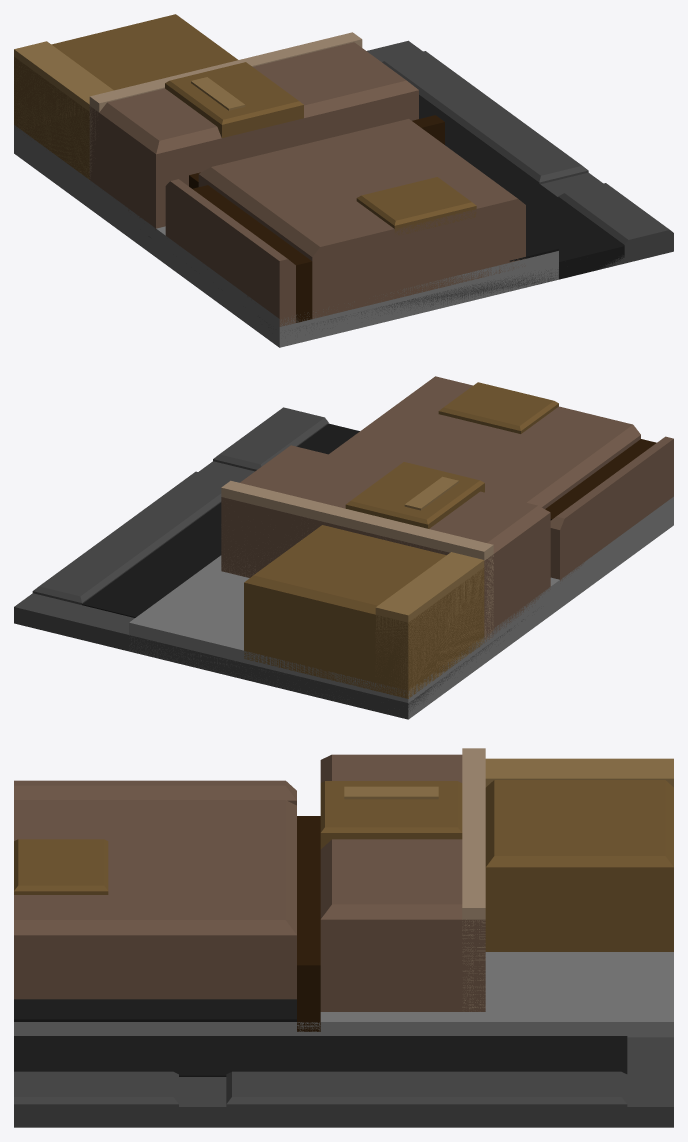
File: newshp-231.glb
The picture shows the model from 3 angles, top to bottom: view 1: azimuth 30°, elevation 25°; view 2: azimuth 150°, elevation 25°; view 3: azimuth 270°, elevation 25°; orthographic projection. The views are drawn at different scales.
Parts seen in each view (by area): view 1: newshp-231; view 2: newshp-231; view 3: newshp-231.
Boxes of the visible parts, bbox=[...] form: newshp-231: bbox=[14, 14, 673, 347]; newshp-231: bbox=[14, 376, 673, 719]; newshp-231: bbox=[14, 748, 673, 1127].
Size of the model in its own units: 2 by 0.59 by 2.33.
